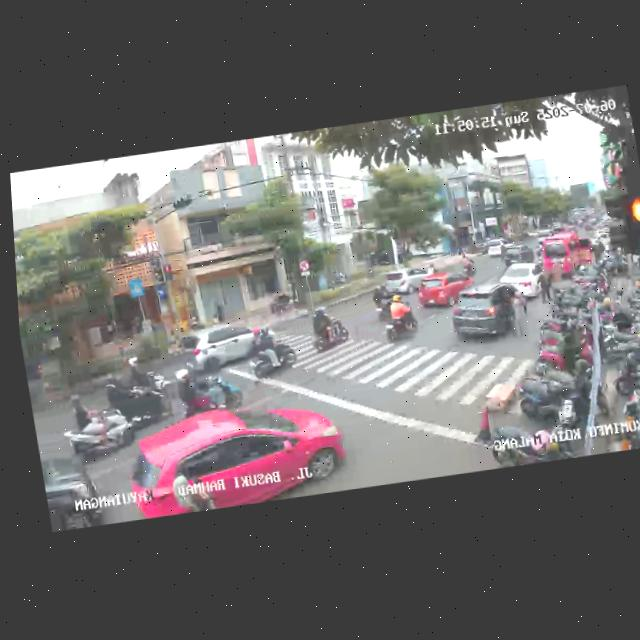car: (121, 392, 353, 520), (445, 278, 532, 347), (40, 448, 110, 532), (184, 318, 264, 376), (537, 228, 598, 282), (414, 267, 476, 311), (495, 260, 547, 305), (386, 266, 419, 297), (480, 237, 507, 257)
motorcycle: (167, 352, 247, 421), (61, 401, 141, 467), (97, 366, 174, 430), (240, 320, 301, 380), (119, 351, 176, 404), (306, 303, 354, 358), (376, 289, 420, 345), (369, 284, 396, 324)
person: (506, 289, 534, 340)
